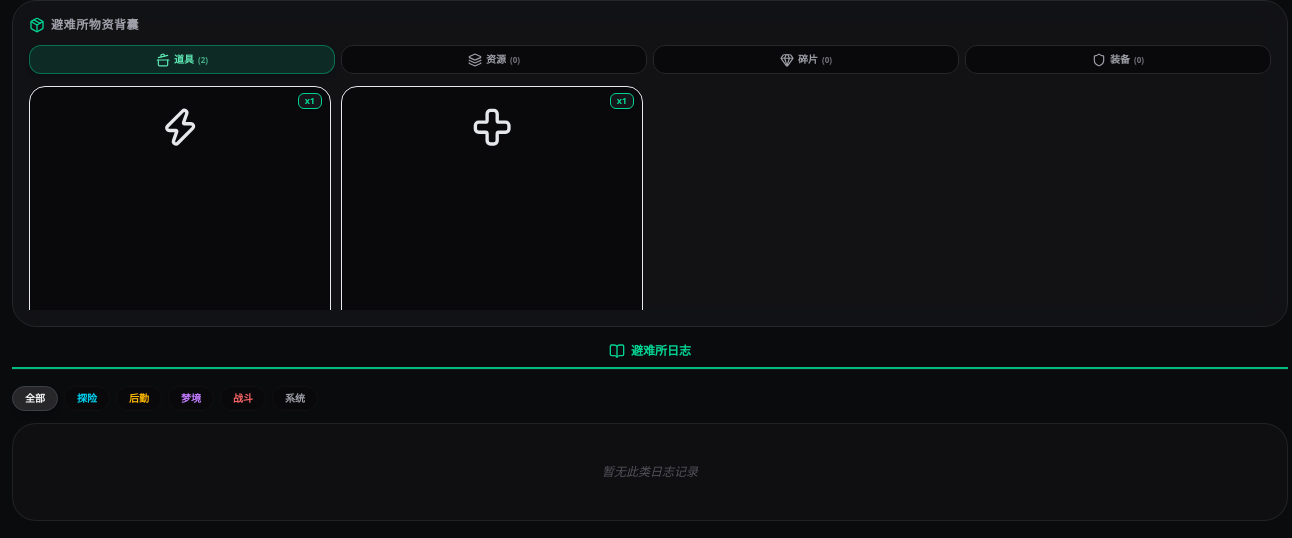
Test case: LogTab Component (物品四分类：道具/资源/碎片/装备) › files consumables like energy refills under 道具, not 装备
装备 tab 为空：可点击查看空状态（不再禁用）
What coordinates should you click on to do the following:
click the button "装备 (0)"
I would click on:
 (1118, 60)
Its box is left=965, top=45, right=1271, bottom=74.
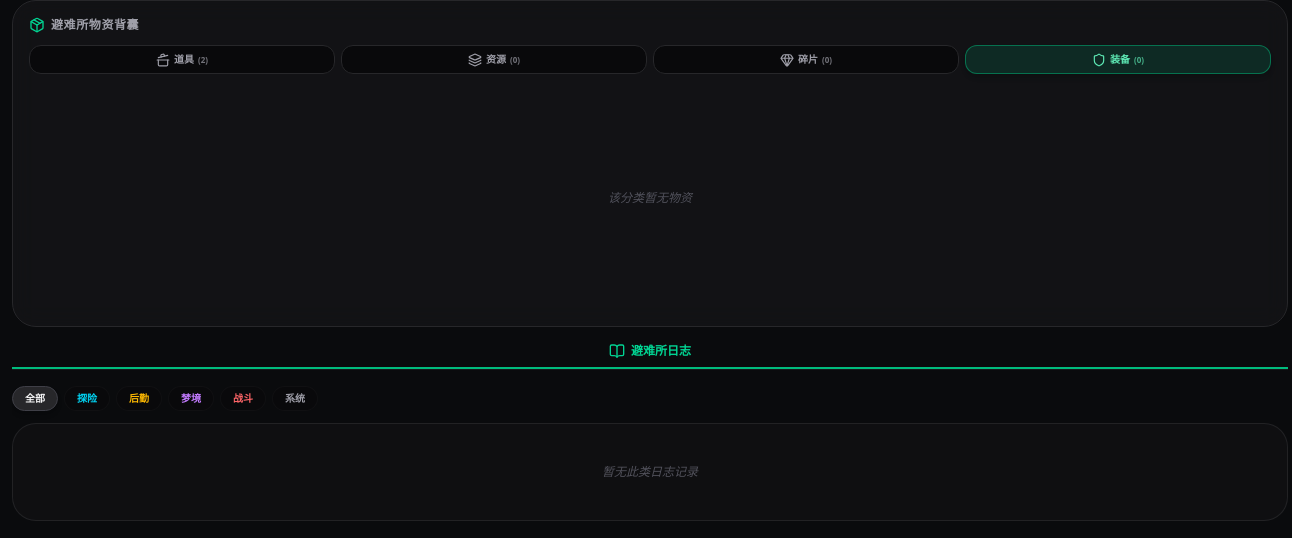
Check: the text "该分类暂无物资" is shown, box left=608, top=189, right=692, bottom=206
